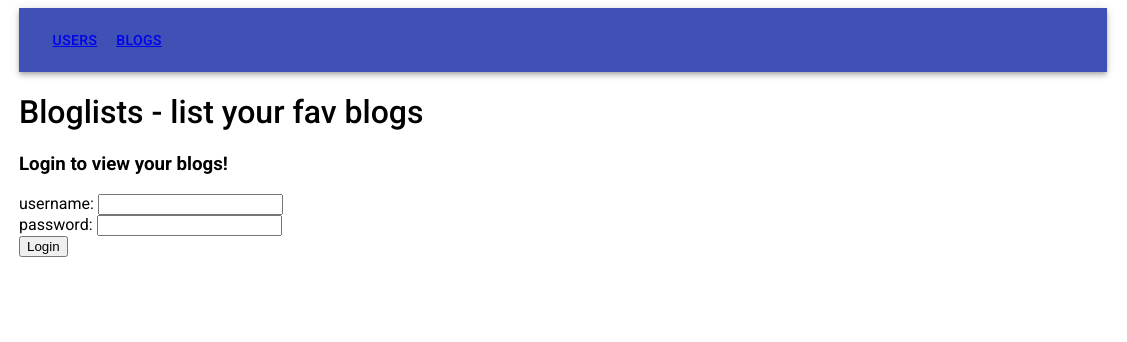
Test: Blog › Login › fails with incorrect credentials
Type "teTe" into the field named "username" next to "username:" at (191, 205), box x1=98 y1=194 x2=283 y2=215
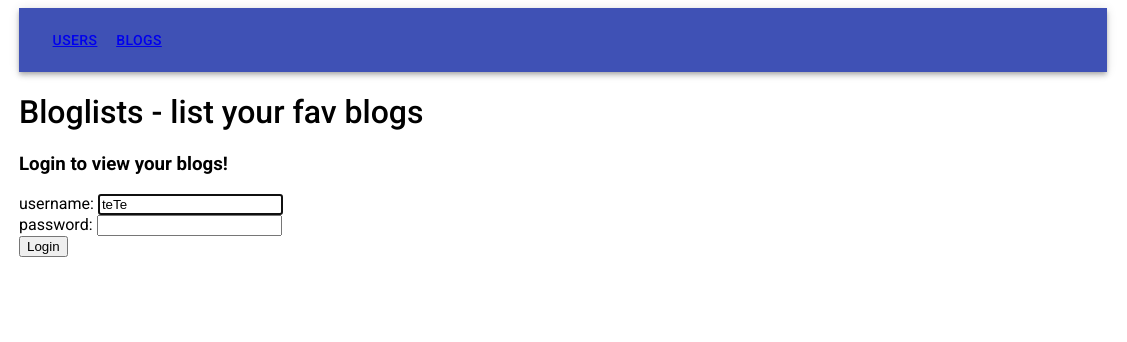
Type "notThePassword" into the field named "password" next to "password:" at (190, 226), box x1=97 y1=215 x2=282 y2=236
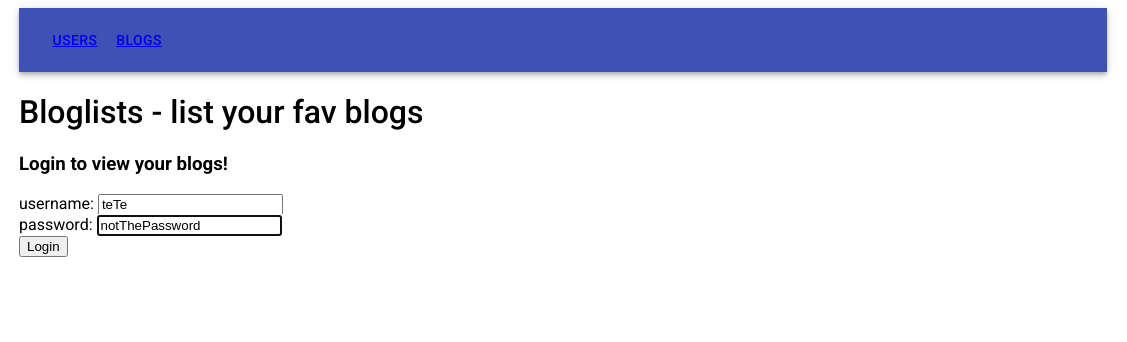
Click the button with id "loginButton" at (44, 247), box x1=19 y1=236 x2=68 y2=257
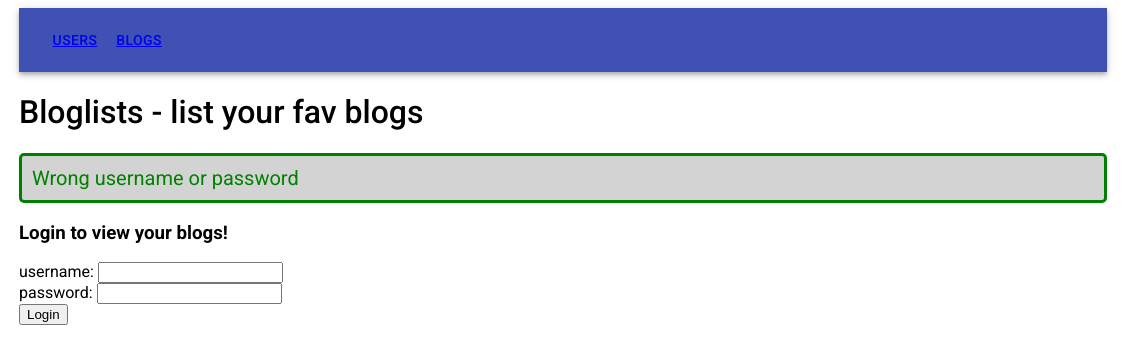
Check: the text "Wrong username or password" is shown, box x1=19 y1=153 x2=1107 y2=203
